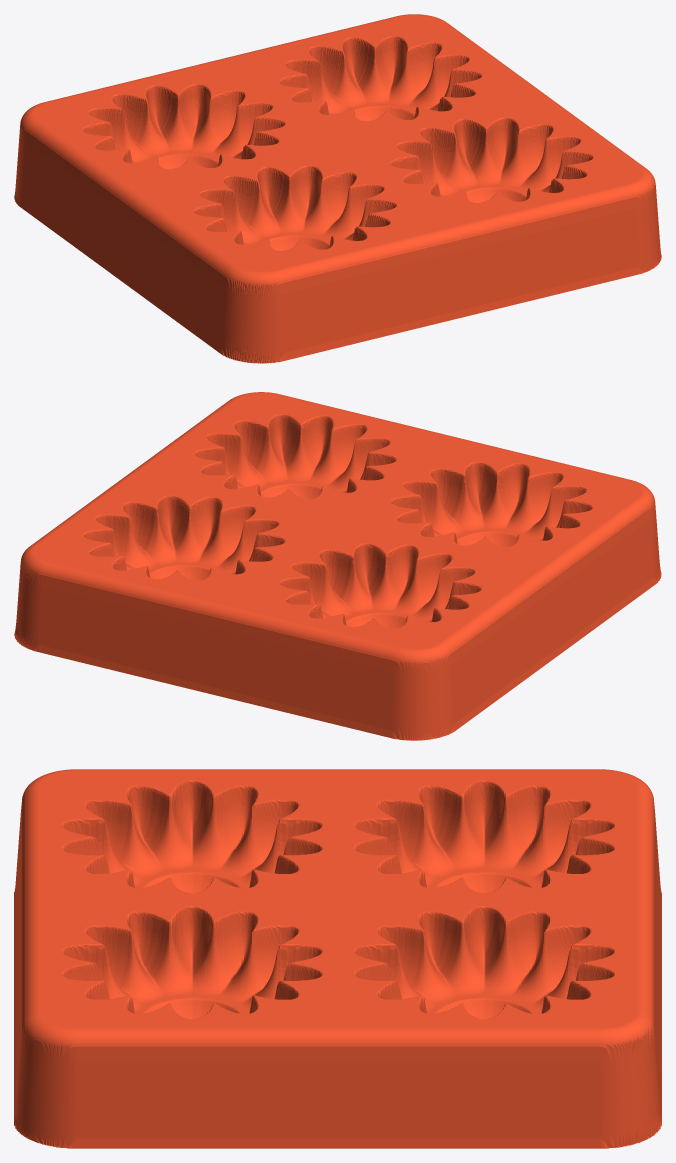
Rendered from mold.glb.
3 views of the same model, one above another, from view 1: azimuth 30°, elevation 25°; view 2: azimuth 150°, elevation 25°; view 3: azimuth 270°, elevation 25° (orthographic). The views are drawn at different scales.
Parts seen in each view (by area): view 1: geometry_0; view 2: geometry_0; view 3: geometry_0.
Part boxes in pixels (x1,y1,x2,y2): geometry_0: (14,14,661,363); geometry_0: (14,392,661,740); geometry_0: (14,769,661,1148).
Size of the model in its own units: 0.0952 by 0.0175 by 0.0936.
